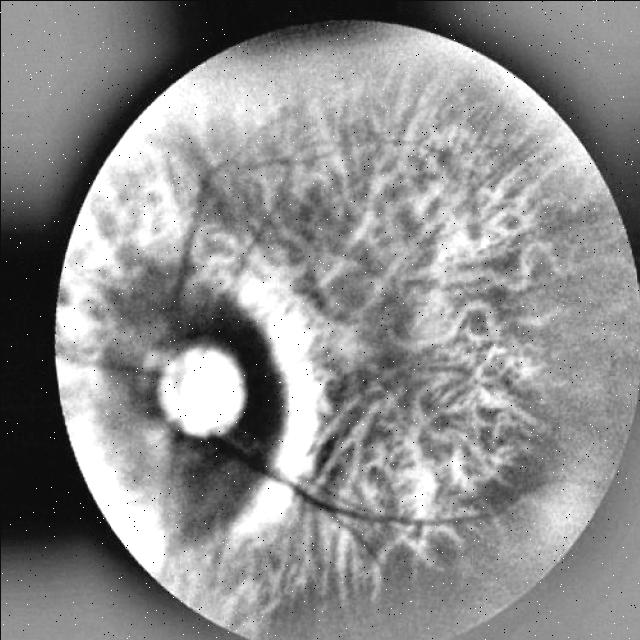Macula: (328, 325, 369, 367)
Nerves: (215, 437, 361, 537), (211, 222, 268, 334), (191, 160, 231, 243), (174, 256, 185, 332)
Optic Disk: (157, 347, 244, 434)
